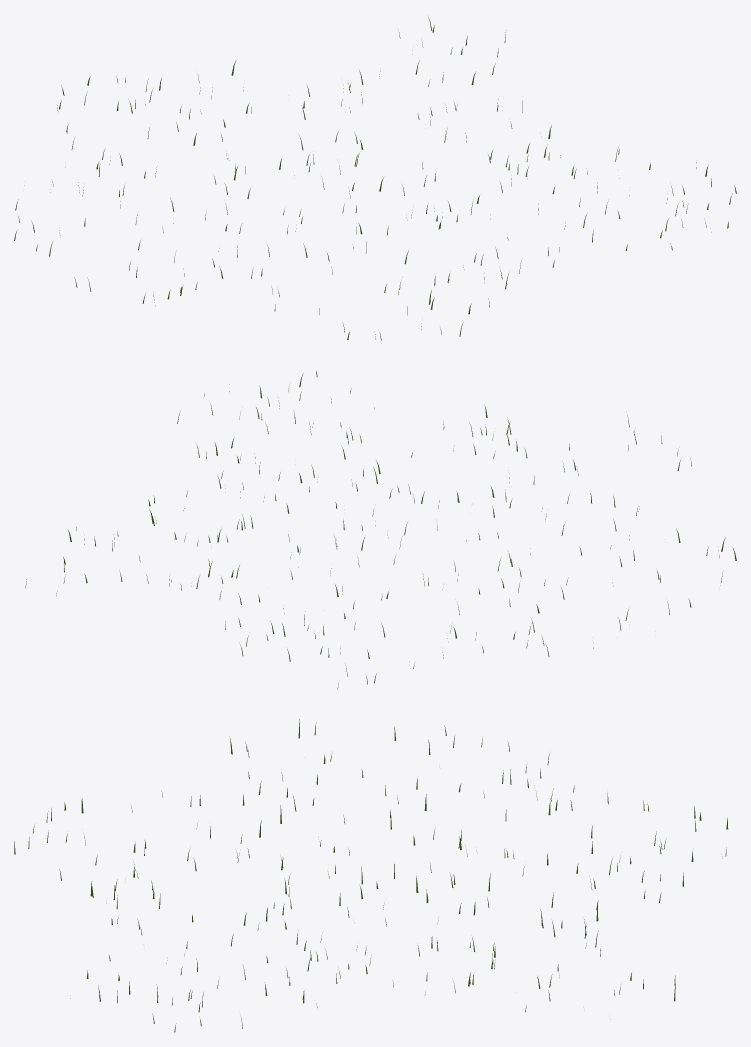
The picture shows the model from 3 angles, top to bottom: view 1: azimuth 30°, elevation 25°; view 2: azimuth 150°, elevation 25°; view 3: azimuth 270°, elevation 25°; orthographic projection. The views are drawn at different scales.
Visible parts, largest first — view 1: GrassPatch; view 2: GrassPatch; view 3: GrassPatch.
Boxes of the visible parts, x1=… form: GrassPatch: x1=14, y1=17, x2=736, y2=340; GrassPatch: x1=25, y1=371, x2=736, y2=689; GrassPatch: x1=14, y1=719, x2=728, y2=1032.
Size of the model in its own units: 16.86 by 0.491 by 17.25.
